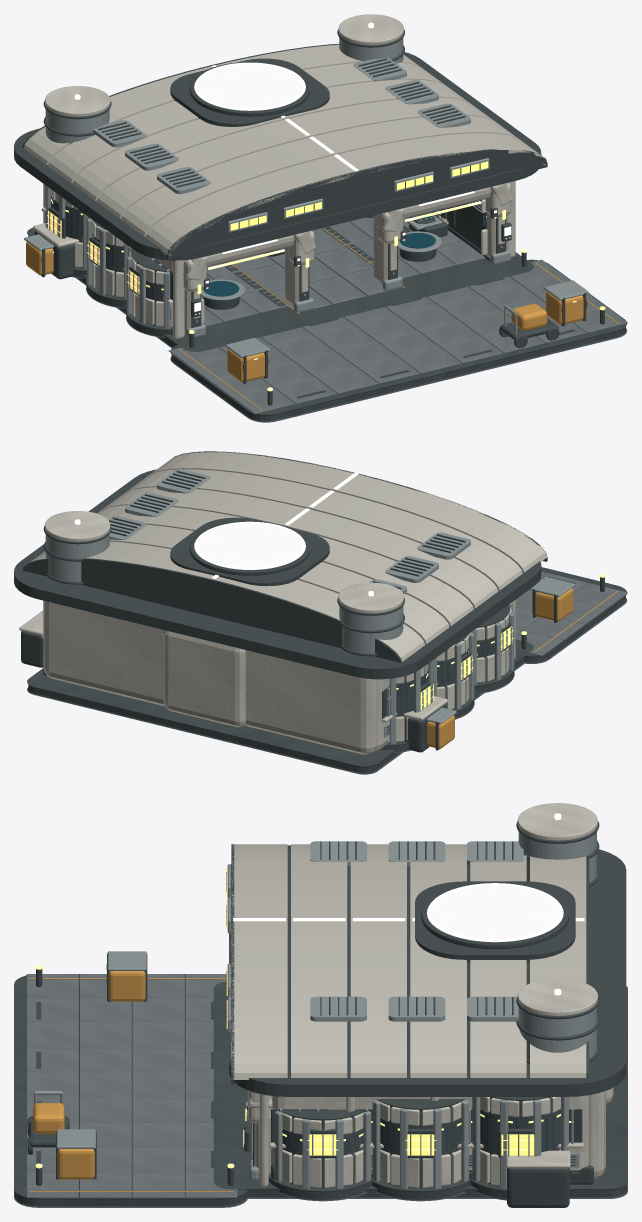
The model's file is base-foundry.glb.
3 renders of one model, top to bottom at view 1: azimuth 30°, elevation 25°; view 2: azimuth 150°, elevation 25°; view 3: azimuth 270°, elevation 25°, orthographic. The views are drawn at different scales.
Parts seen in each view (by area): view 1: MF_Roof__structure_ivory_ceramic, MF_Roof__structure_graphite_joints, MF_Court__court_weathered_basalt, MF_ShellCutaway__structure_ivory_ceramic, MF_Interior__court_weathered_basalt, MF_BaseFixed__structure_graphite_joints, MF_Roof__brushed_titanium, MF_Court__structure_graphite_joints, MF_ShellCutaway__structure_graphite_joints, MF_ShellCutaway__brushed_titanium, MF_Roof__identity_roof_inset, MF_Props__utility_ochre (+9 smaller); view 2: MF_Roof__structure_ivory_ceramic, MF_Roof__structure_graphite_joints, MF_BaseFixed__structure_ivory_ceramic, MF_BaseFixed__structure_graphite_joints, MF_Roof__brushed_titanium, MF_Roof__identity_roof_inset, MF_Court__court_weathered_basalt, MF_ShellCutaway__brushed_titanium, MF_ShellCutaway__structure_ivory_ceramic, MF_ShellCutaway__structure_graphite_joints, MF_Props__structure_graphite_joints, MF_Props__utility_ochre (+5 smaller); view 3: MF_Roof__structure_ivory_ceramic, MF_Court__court_weathered_basalt, MF_Roof__structure_graphite_joints, MF_BaseFixed__structure_graphite_joints, MF_ShellCutaway__structure_ivory_ceramic, MF_Roof__brushed_titanium, MF_ShellCutaway__brushed_titanium, MF_ShellCutaway__structure_graphite_joints, MF_Court__structure_graphite_joints, MF_Roof__identity_roof_inset, MF_Props__structure_graphite_joints, MF_Props__utility_ochre (+6 smaller).
Part boxes in pixels (x1,y1,x2,y2): MF_Roof__structure_ivory_ceramic: [23, 14, 545, 255]; MF_Roof__structure_graphite_joints: [14, 29, 547, 260]; MF_Court__court_weathered_basalt: [169, 259, 627, 413]; MF_ShellCutaway__structure_ivory_ceramic: [51, 181, 515, 333]; MF_Interior__court_weathered_basalt: [201, 217, 485, 326]; MF_BaseFixed__structure_graphite_joints: [27, 211, 533, 351]; MF_Roof__brushed_titanium: [45, 38, 489, 232]; MF_Court__structure_graphite_joints: [170, 259, 626, 422]; MF_ShellCutaway__structure_graphite_joints: [48, 196, 511, 328]; MF_ShellCutaway__brushed_titanium: [45, 185, 510, 338]; MF_Roof__identity_roof_inset: [194, 64, 305, 110]; MF_Props__utility_ochre: [26, 242, 587, 382]; MF_Roof__structure_ivory_ceramic: [30, 451, 547, 661]; MF_Roof__structure_graphite_joints: [14, 451, 547, 679]; MF_BaseFixed__structure_ivory_ceramic: [43, 600, 515, 754]; MF_BaseFixed__structure_graphite_joints: [27, 639, 533, 774]; MF_Roof__brushed_titanium: [45, 469, 470, 656]; MF_Roof__identity_roof_inset: [194, 523, 305, 569]; MF_Court__court_weathered_basalt: [515, 571, 627, 656]; MF_ShellCutaway__brushed_titanium: [389, 602, 514, 744]; MF_ShellCutaway__structure_ivory_ceramic: [41, 607, 511, 742]; MF_ShellCutaway__structure_graphite_joints: [388, 605, 511, 743]; MF_Props__structure_graphite_joints: [21, 577, 604, 752]; MF_Props__utility_ochre: [427, 588, 573, 748]; MF_Roof__structure_ivory_ceramic: [231, 803, 597, 1079]; MF_Court__court_weathered_basalt: [26, 974, 237, 1197]; MF_Roof__structure_graphite_joints: [226, 821, 626, 1096]; MF_BaseFixed__structure_graphite_joints: [213, 981, 627, 1201]; MF_ShellCutaway__structure_ivory_ceramic: [247, 1090, 588, 1188]; MF_Roof__brushed_titanium: [227, 832, 596, 1059]; MF_ShellCutaway__brushed_titanium: [250, 1097, 579, 1189]; MF_ShellCutaway__structure_graphite_joints: [244, 1097, 582, 1188]; MF_Court__structure_graphite_joints: [14, 974, 247, 1207]; MF_Roof__identity_roof_inset: [426, 885, 563, 942]; MF_Props__structure_graphite_joints: [27, 953, 569, 1207]; MF_Props__utility_ochre: [33, 971, 145, 1179].
Bounding box in the file's own units: 29.57 × 10.89 × 31.36.
15 materials, 3 textured.
